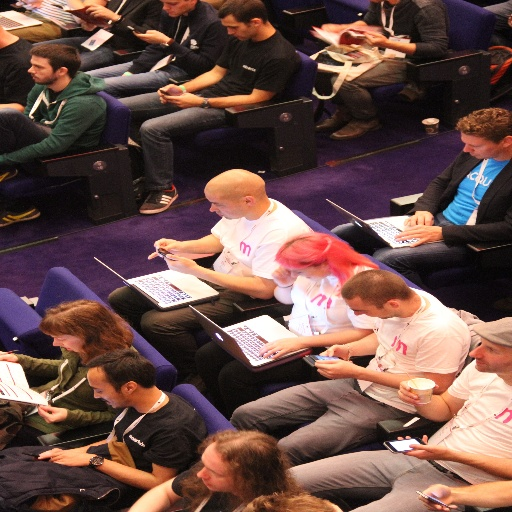hand: (309, 354, 361, 380), (395, 435, 447, 459), (395, 380, 440, 407), (415, 482, 456, 511), (400, 224, 446, 247), (256, 337, 301, 359), (36, 449, 94, 465), (146, 238, 183, 260), (162, 90, 203, 108), (162, 253, 196, 273), (82, 2, 119, 20), (157, 83, 184, 104), (401, 209, 434, 225), (36, 405, 67, 422), (132, 29, 169, 43), (319, 344, 348, 360), (361, 30, 388, 46), (36, 446, 62, 458), (13, 0, 44, 10), (319, 23, 343, 34), (80, 20, 100, 33), (0, 350, 17, 362)
